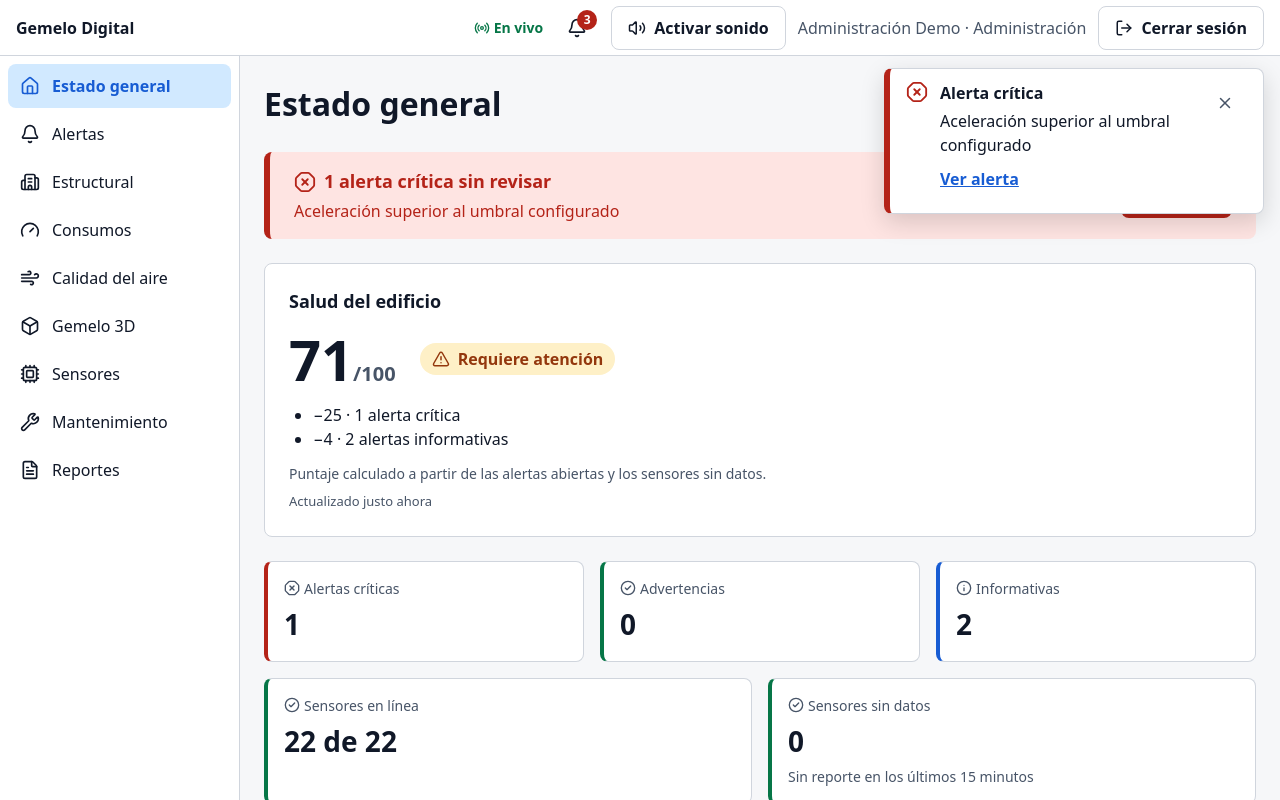
Test: cabecera › si el navegador bloquea el audio ofrece "Activar sonido"
Expected: the text "71" is shown, [289,321,353,397]
Click the button "Activar sonido".
click(698, 28)  # box [611,6,786,50]
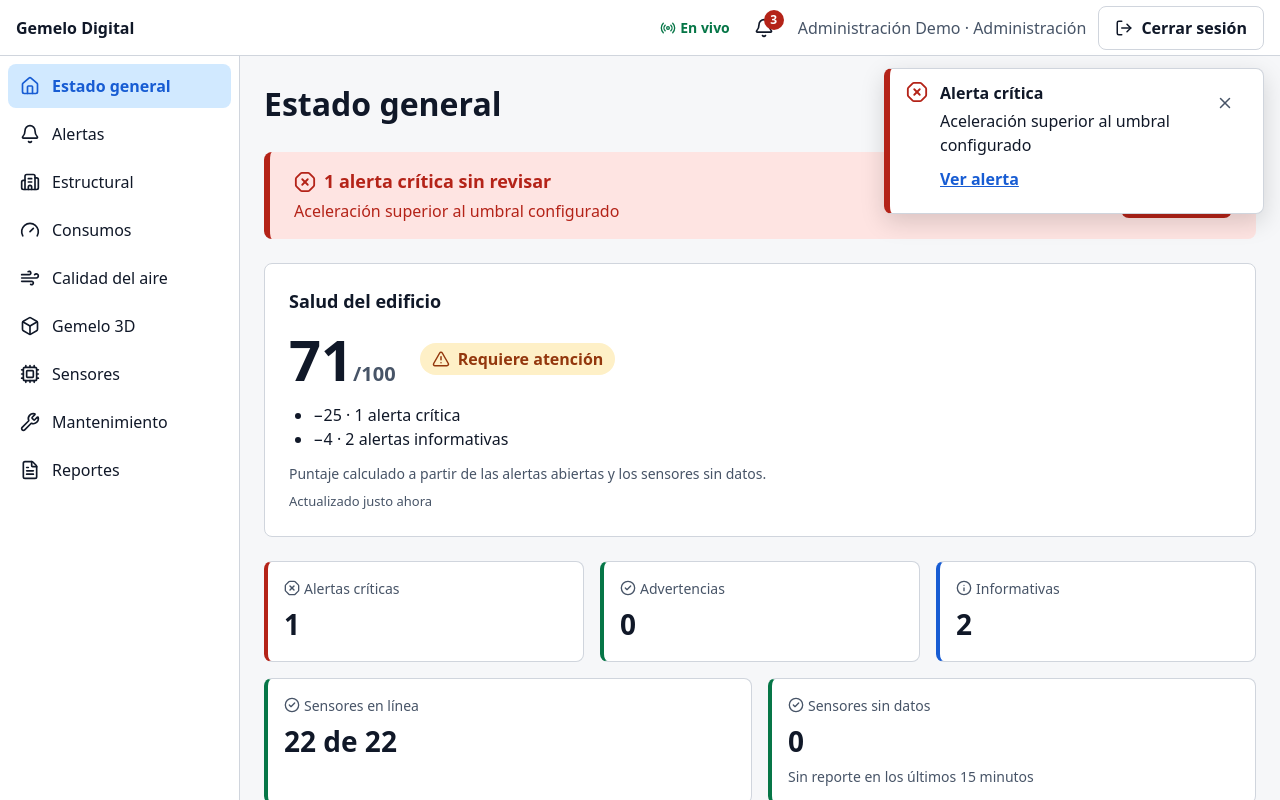
Expected: the button "Activar sonido" is gone
